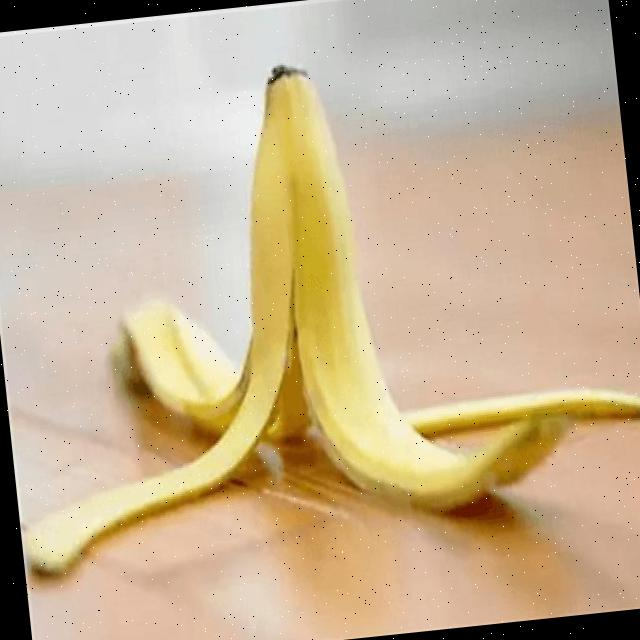banana-peel: (0, 27, 640, 578)
